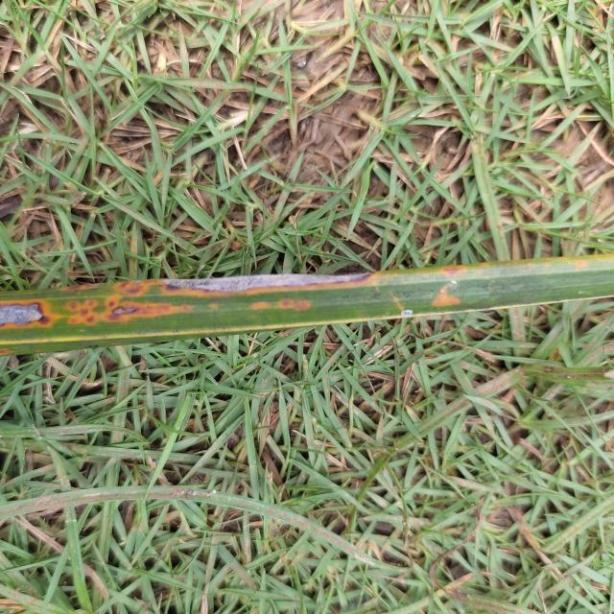Kalium: (0, 256, 614, 355)
